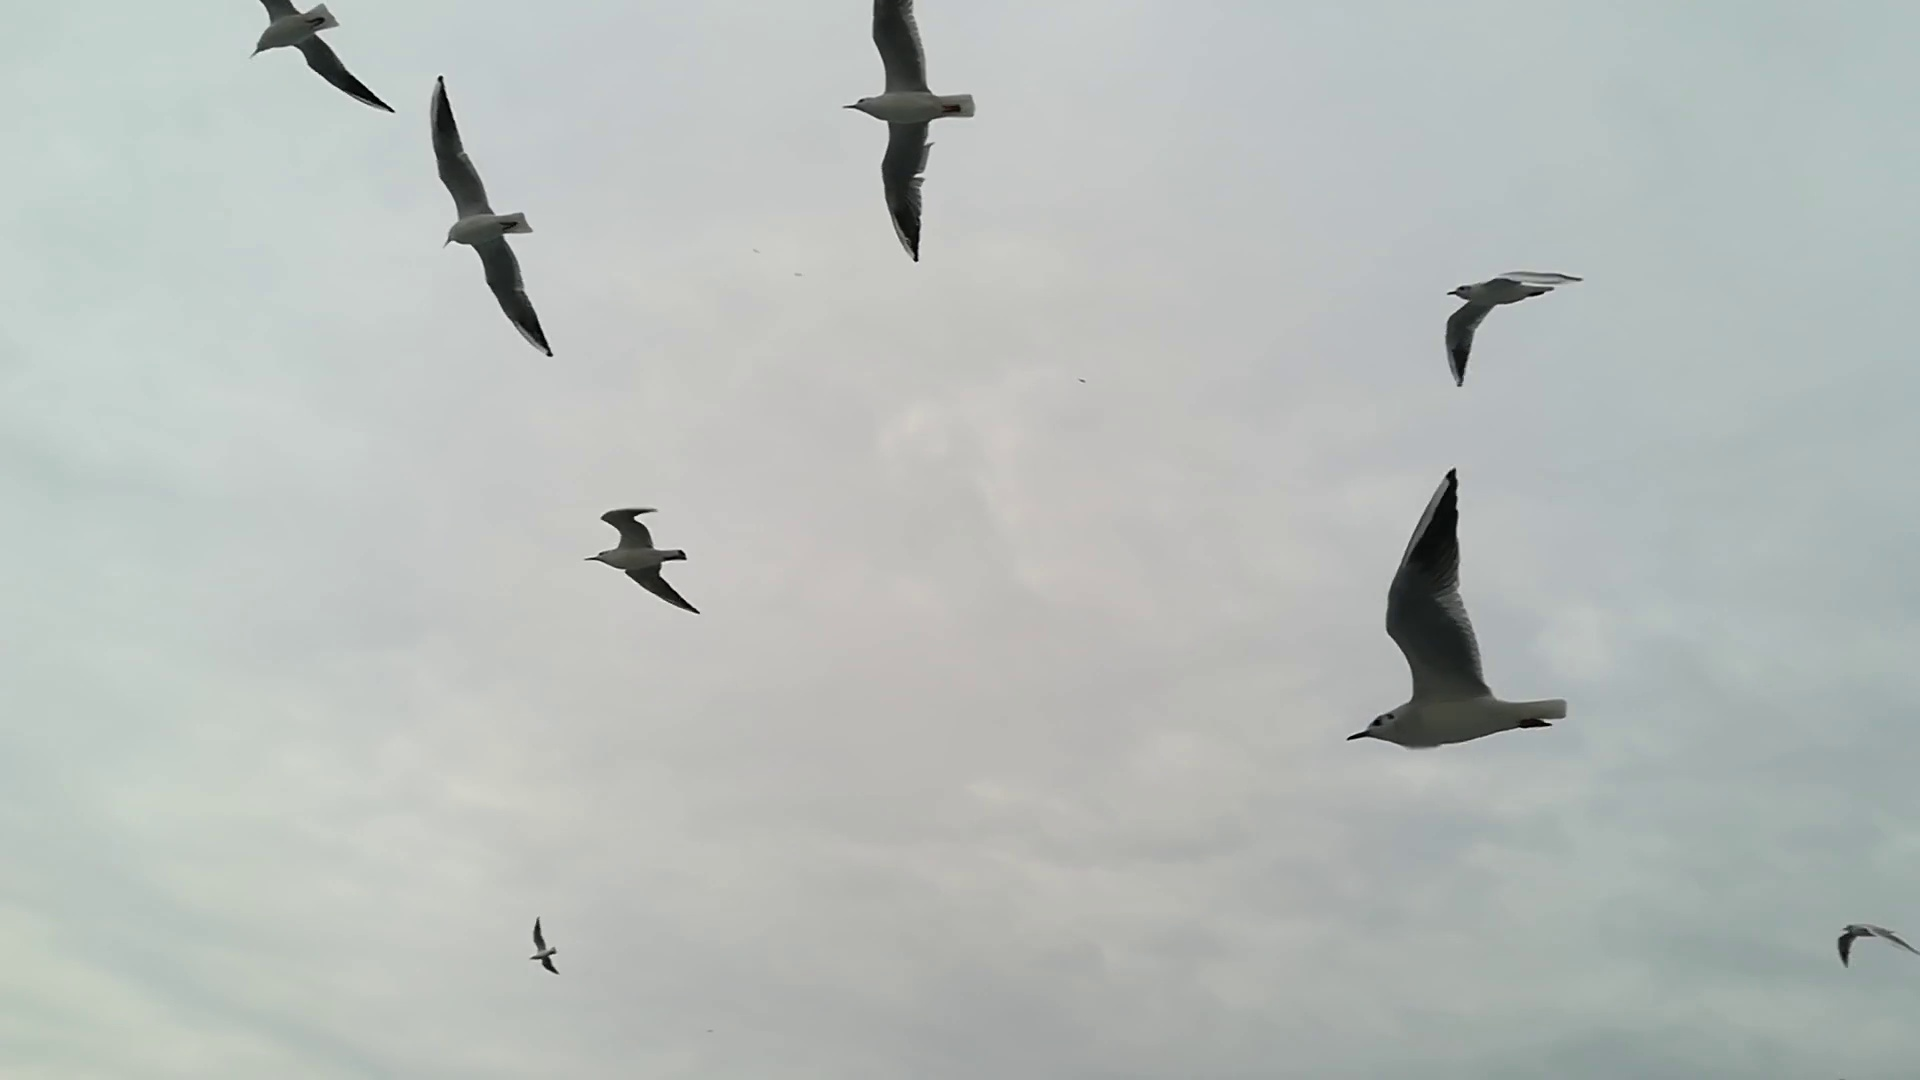bird: (1346, 463, 1567, 746), (425, 75, 555, 353), (837, 0, 975, 262), (1436, 270, 1586, 385), (248, 1, 394, 115), (584, 506, 702, 616), (1836, 923, 1920, 975), (531, 923, 558, 975)
